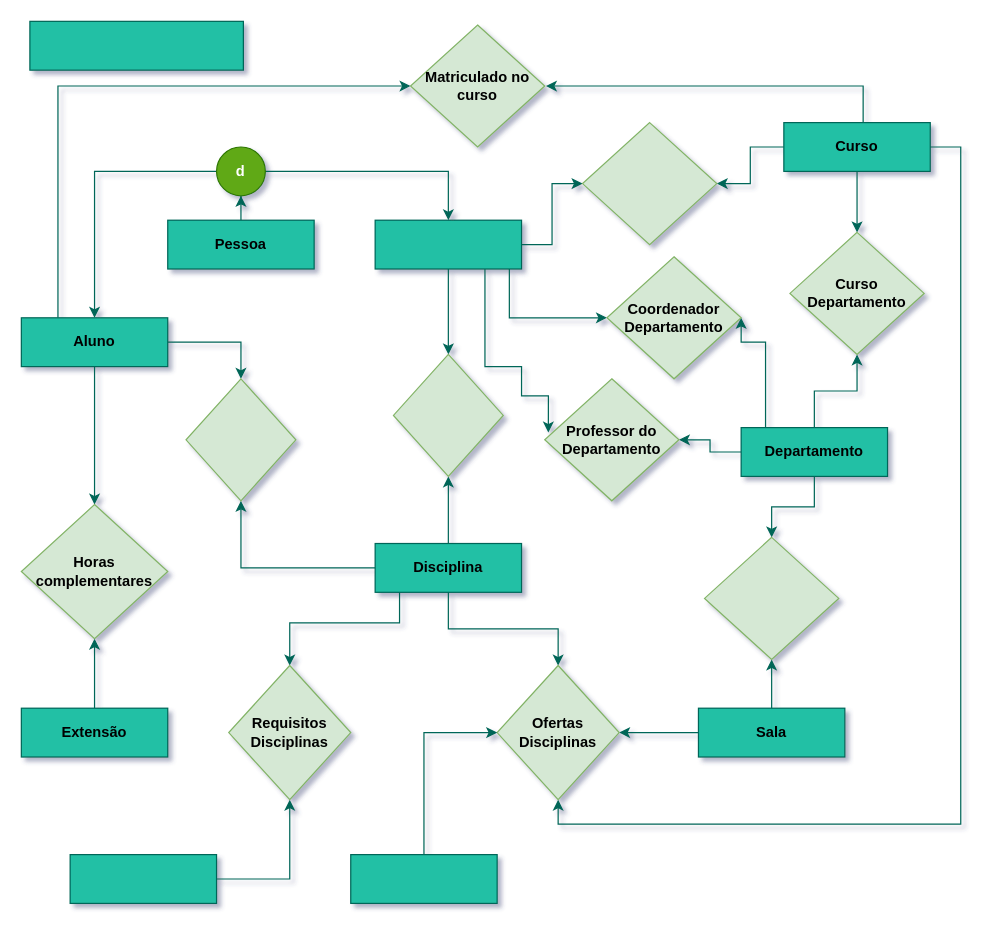
Some shapes in this 999 by 932 pixel diagram are drawn without their labels. Each missing label, with the centre of its shape:
"Coordenador curso" goes at (649,183).
"Matricula Disciplina" goes at (240,439).
"Período" goes at (423,878).
"Professor" goes at (448,244).
"Professor Disciplina" goes at (447,414).
"Pré-requisitos" goes at (143,878).
"Sala Departamento" goes at (771,597).
"UNIVERSIDADE" goes at (136,45).
